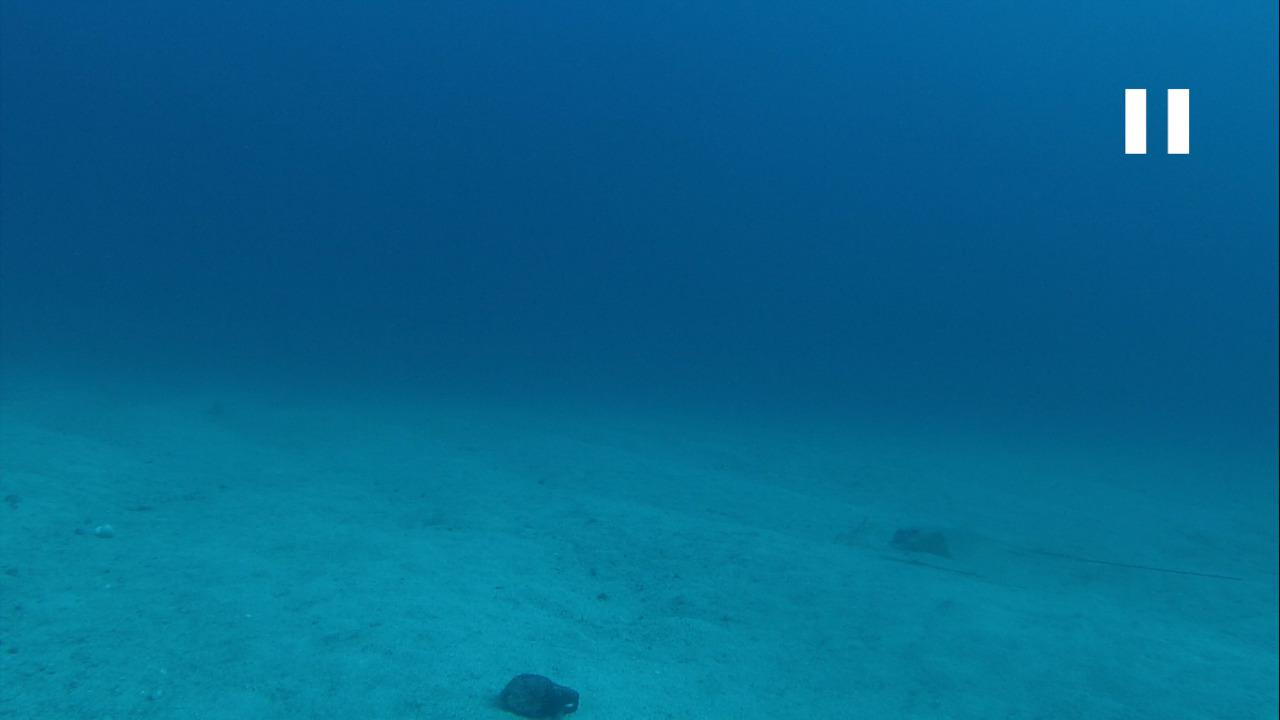myliobatis: (870, 517, 1231, 585)
